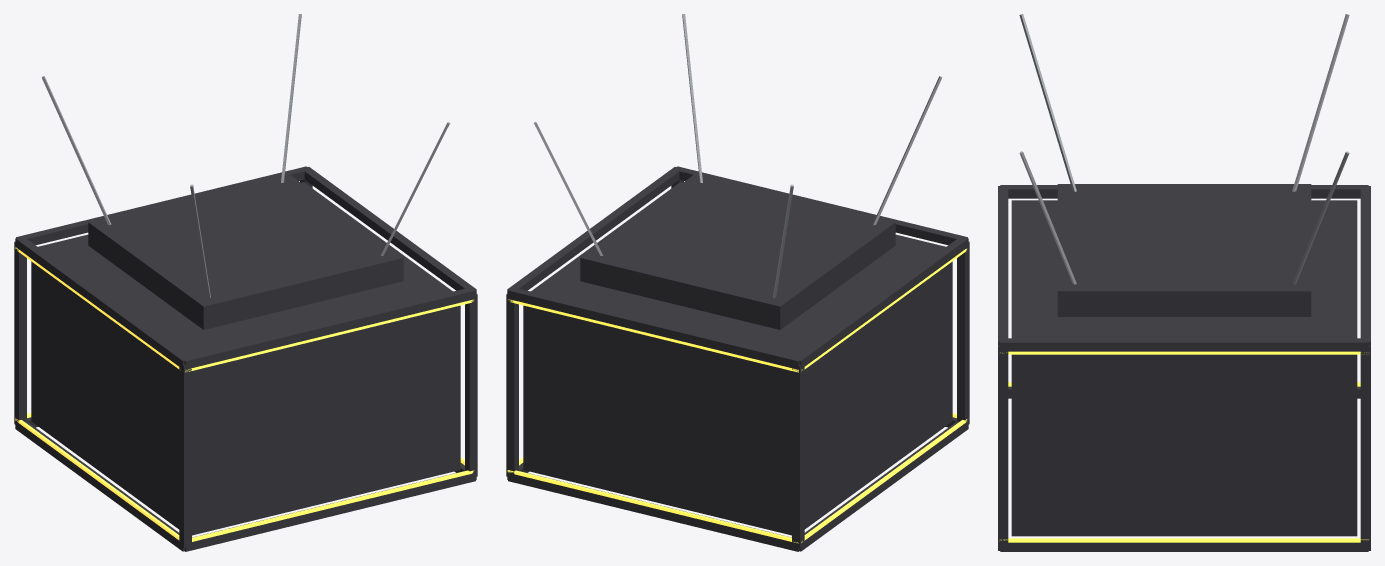
Rendered from jumbotron.glb.
3 renders of one model, left to right at view 1: azimuth 30°, elevation 25°; view 2: azimuth 150°, elevation 25°; view 3: azimuth 270°, elevation 25°, orthographic. The views are drawn at different scales.
Parts seen in each view (by area): view 1: Jumbo_Core, Jumbo_Cap, Jumbo_Frame, Jumbo_Trim, Jumbo_Cables; view 2: Jumbo_Core, Jumbo_Cap, Jumbo_Frame, Jumbo_Trim, Jumbo_Cables; view 3: Jumbo_Core, Jumbo_Cap, Jumbo_Frame, Jumbo_Trim, Jumbo_Cables.
Part boxes in pixels (box(x1,y1,x2,y2)): Jumbo_Core: box(31, 182, 460, 535); Jumbo_Cap: box(88, 173, 403, 329); Jumbo_Frame: box(14, 166, 477, 551); Jumbo_Trim: box(15, 247, 473, 541); Jumbo_Cables: box(42, 14, 449, 298); Jumbo_Core: box(523, 182, 952, 535); Jumbo_Cap: box(580, 173, 895, 329); Jumbo_Frame: box(506, 166, 969, 551); Jumbo_Trim: box(507, 248, 967, 543); Jumbo_Cables: box(534, 14, 941, 298); Jumbo_Core: box(1011, 200, 1357, 536); Jumbo_Cap: box(1057, 184, 1311, 316); Jumbo_Frame: box(998, 185, 1370, 551); Jumbo_Trim: box(1000, 351, 1368, 542); Jumbo_Cables: box(1019, 14, 1349, 284).
Bounding box in the file's own units: 6.58 × 8.26 × 6.58.
